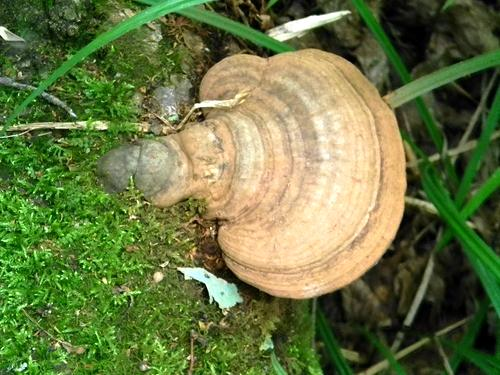Ganoderma - Fruit Body: (190, 40, 415, 305)
